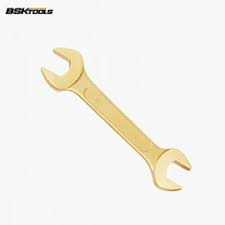Wrench: (44, 43, 199, 195)
